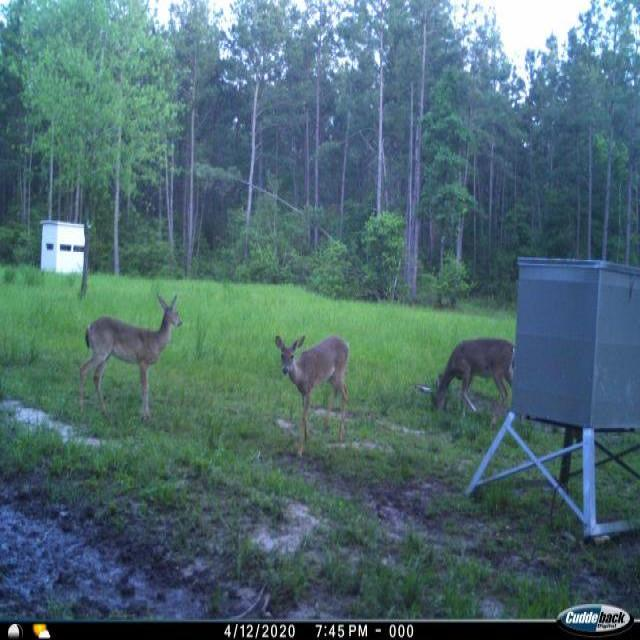deer: (75, 285, 186, 439), (269, 326, 353, 463), (422, 332, 516, 428)
